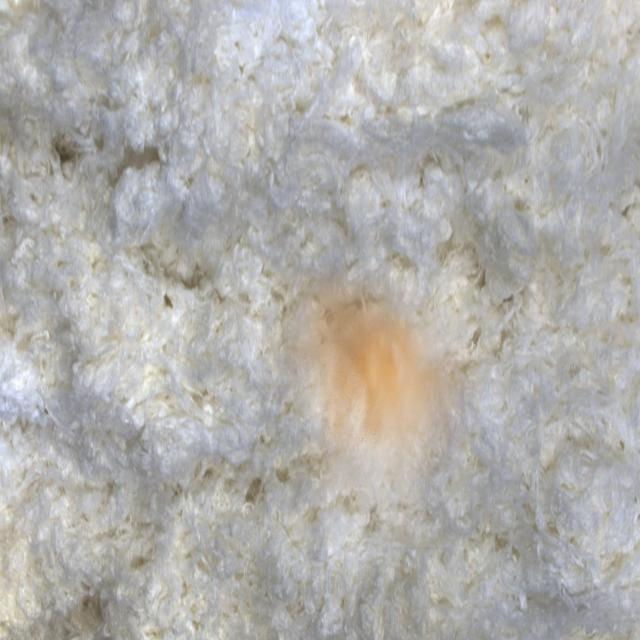dust: (262, 264, 481, 547)
